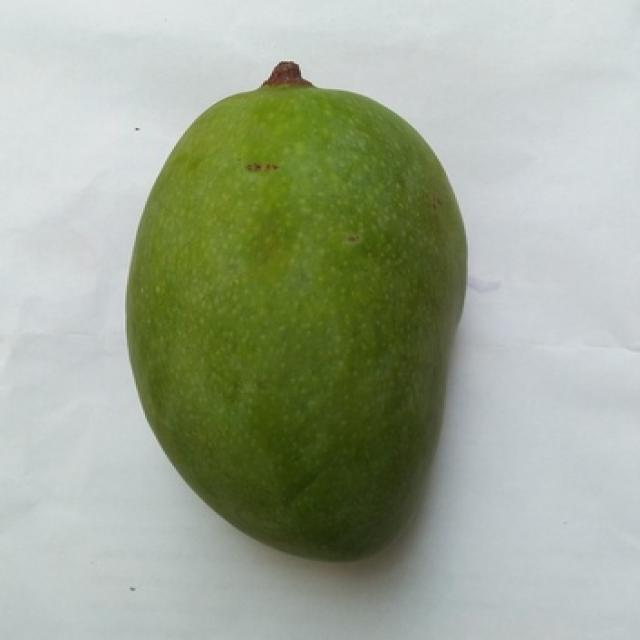Mango: (127, 64, 464, 560)
